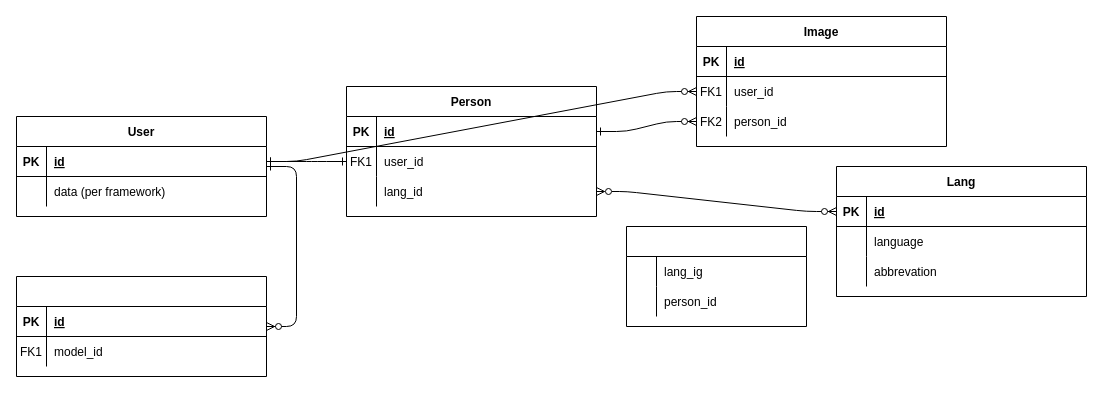
Some shapes in this 1103 by 393 pixel diagram are drawn without their labels. Each missing label, with the box of its shape:
pivot(lang_person): (626, 226, 806, 326)
Spatie roles and permissions: (16, 276, 266, 376)
